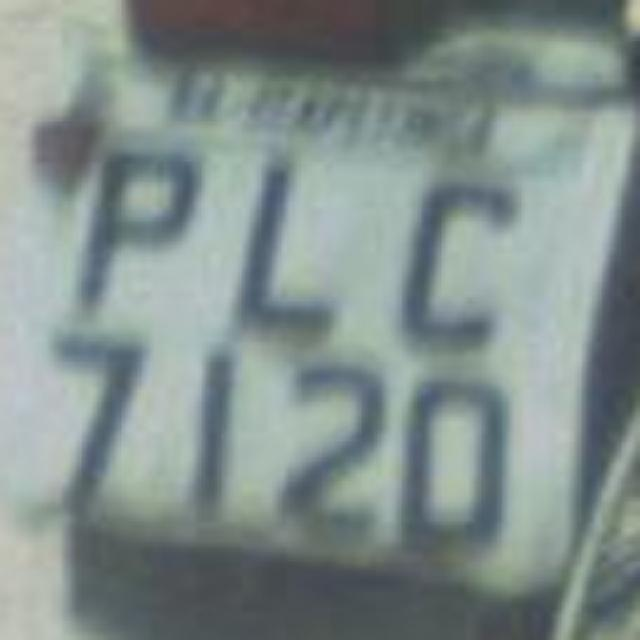0: (384, 344, 524, 568)
1: (156, 320, 264, 515)
2: (251, 344, 404, 544)
7: (28, 311, 160, 524)
C: (380, 151, 528, 364)
L: (220, 140, 360, 345)
P: (64, 116, 211, 324)
